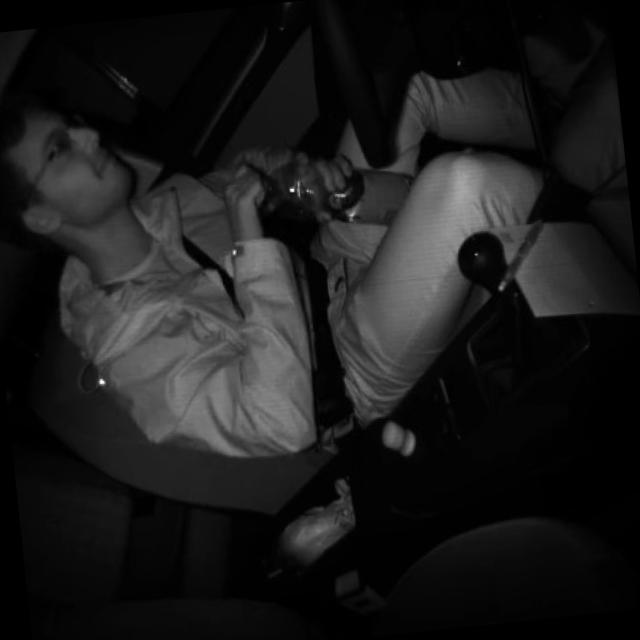pen: (487, 212, 553, 294)
